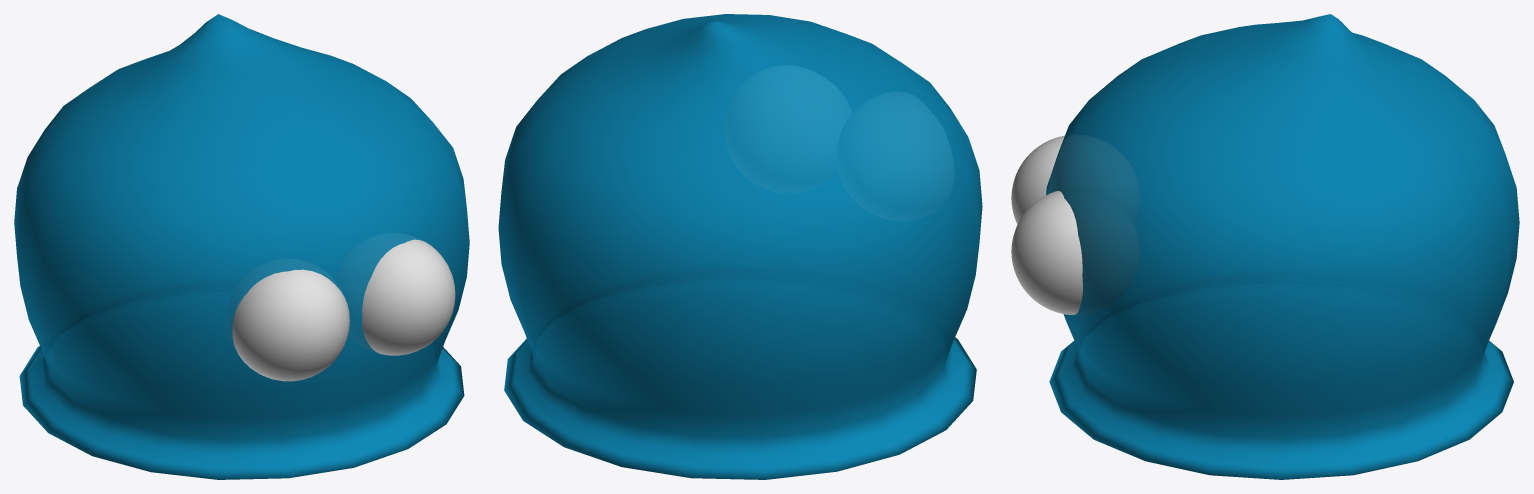
File: Slime.fbx
The picture shows the model from 3 angles, left to right: view 1: azimuth 30°, elevation 25°; view 2: azimuth 150°, elevation 25°; view 3: azimuth 270°, elevation 25°; orthographic projection. The views are drawn at different scales.
Visible parts, largest first — view 1: Body, RightEye, LeftEye; view 2: Body; view 3: Body, LeftEye, RightEye.
Part boxes in pixels (x1,y1,x2,y2): Body: [14, 14, 469, 479]; RightEye: [232, 269, 349, 381]; LeftEye: [362, 239, 455, 355]; Body: [498, 14, 982, 479]; Body: [1046, 14, 1519, 479]; LeftEye: [1011, 191, 1082, 314]; RightEye: [1011, 135, 1064, 224].
Size of the model in its own units: 1.88 by 1.63 by 2.01.
